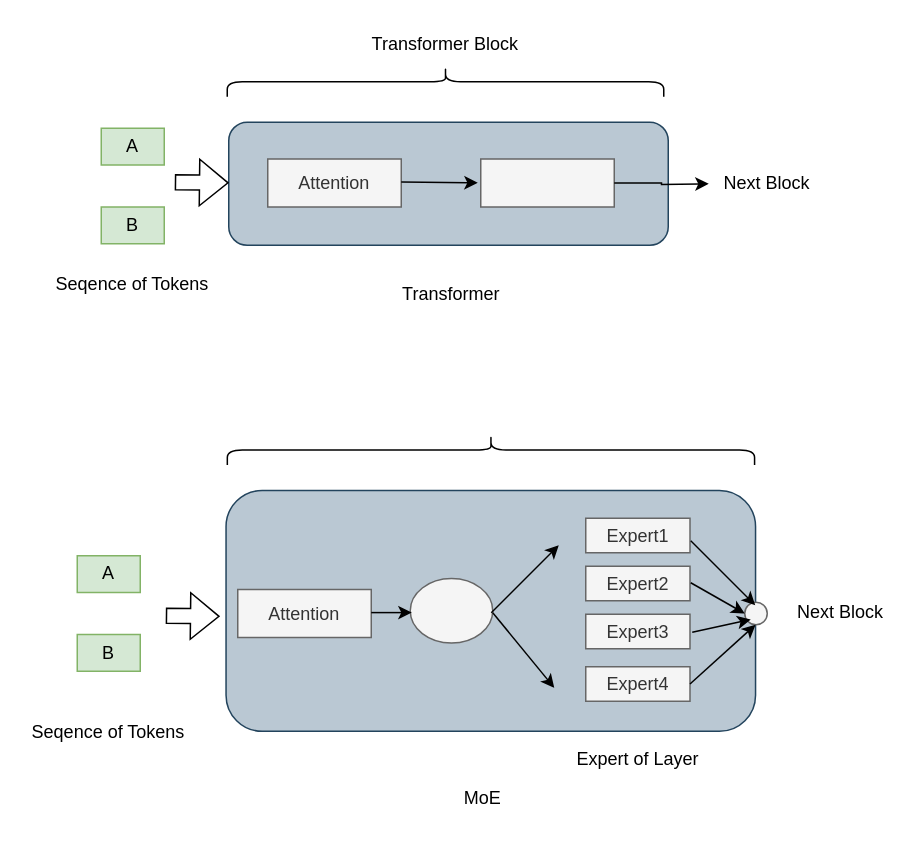
Some shapes in this 918 by 846 pixel diagram are drawn without their labels. The centre of each missing label's shape, as x and y in pixels:
FNN: point 546,182
Gate: point 451,610
MoE Block: point 490,449
